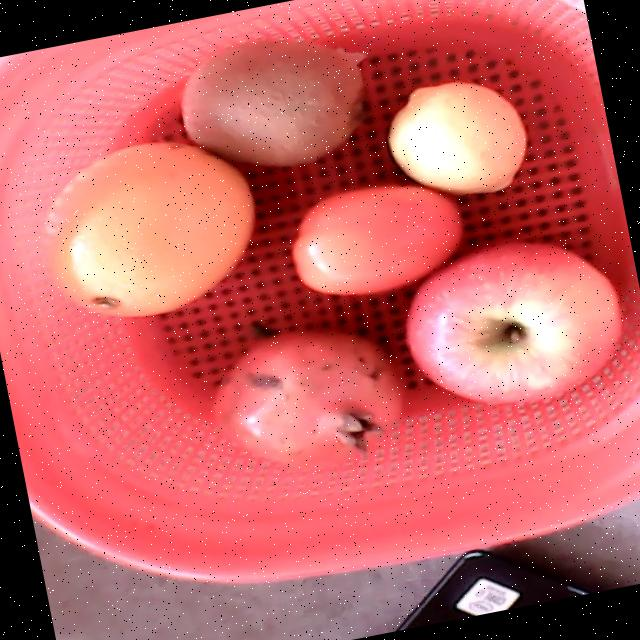apple: (408, 242, 621, 403)
kiwi: (180, 36, 363, 164)
lemon: (388, 81, 528, 191)
orange: (40, 143, 255, 318)
pomegranate: (212, 329, 403, 472)
tomato: (292, 186, 463, 296)
